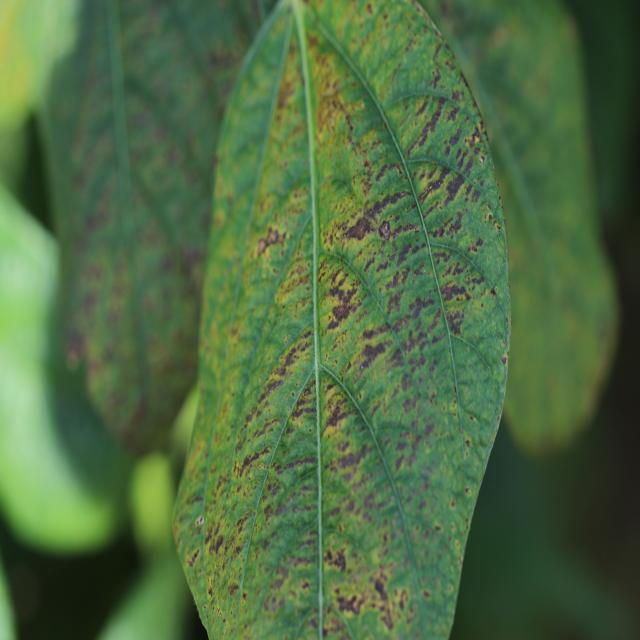Bacterial_Blight: (77, 229, 142, 387), (374, 380, 443, 460), (270, 252, 314, 314), (392, 314, 442, 365), (400, 1, 448, 41), (272, 68, 302, 131), (315, 87, 349, 138), (318, 381, 349, 436), (415, 100, 450, 143), (351, 338, 390, 374), (155, 139, 186, 177), (205, 41, 240, 74), (237, 444, 273, 476), (83, 196, 112, 235), (439, 171, 469, 208), (289, 387, 318, 422), (439, 280, 472, 310), (386, 262, 417, 292), (376, 188, 413, 213), (256, 225, 284, 257), (178, 242, 204, 276), (274, 455, 314, 477), (345, 214, 376, 242), (330, 294, 358, 324), (64, 328, 87, 364), (334, 589, 362, 615), (326, 175, 355, 199), (323, 546, 347, 572), (234, 512, 253, 539), (268, 567, 288, 591), (159, 251, 178, 275), (274, 499, 291, 518), (374, 578, 388, 601), (380, 611, 395, 631), (211, 533, 225, 554), (363, 255, 376, 274), (188, 547, 200, 566), (228, 582, 240, 596), (320, 623, 328, 638), (195, 515, 205, 527), (216, 607, 224, 619), (357, 363, 365, 375), (366, 2, 373, 15), (423, 589, 431, 600), (490, 286, 497, 298), (434, 524, 441, 533), (207, 587, 213, 597), (501, 355, 507, 365), (496, 223, 501, 235), (450, 498, 456, 508), (496, 413, 501, 424), (479, 155, 485, 164), (291, 390, 296, 398), (202, 604, 207, 611)
Soybean: (175, 0, 510, 640)
